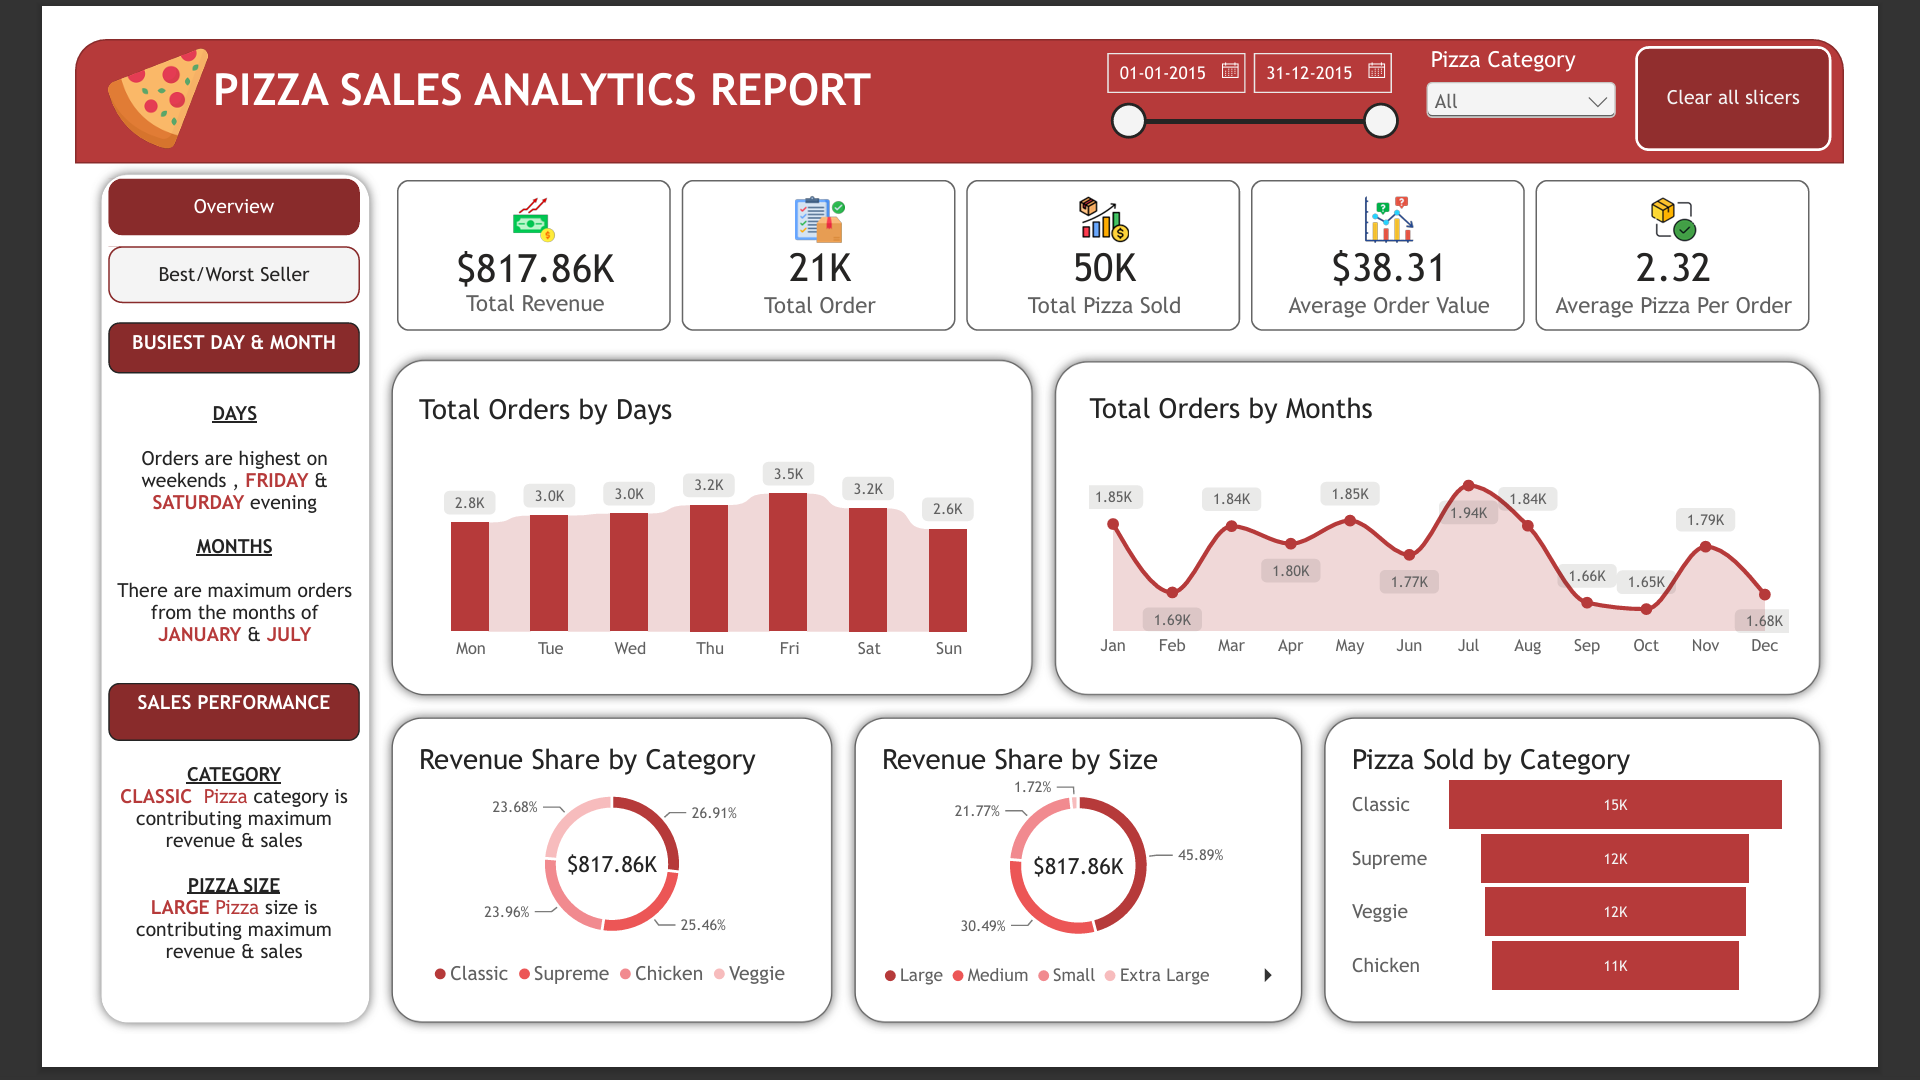

The dashboard page shown, as its layout file describes it:
{"tool":"powerbi","page":{"name":"Overview","canvas":[1280,720],"ordinal":0},"visuals":[{"type":"cardVisual","fields":{"Data":["KPI's.Total Revenue","KPI's.Total Order","KPI's.Total Pizza Sold","KPI's.Average Order Value","KPI's.Average Pizza Per Order"]},"box":[220.8,90.5,1050.8,133.9],"z":0},{"type":"shape","box":[0,0,1280,90],"z":1000},{"type":"shape","box":[10.9,90.5,209.9,629.8],"z":2000},{"type":"shape","box":[220.8,224.4,480.2,258.2],"z":3000},{"type":"shape","box":[701.2,225,570,257.5],"z":4000},{"type":"shape","box":[220.8,482.6,335.4,237.7],"z":5000},{"type":"shape","box":[556.2,482.5,340,237.5],"z":6000},{"type":"shape","box":[896.2,482.5,375,237.5],"z":7000},{"type":"columnChart","title":"Total Orders by Days","fields":{"Y":["KPI's.Total Order"],"Category":["Calendar Table.Day Name"]},"box":[232.8,242.5,453.6,225.6],"z":8000},{"type":"areaChart","title":"Total Orders by Months","fields":{"Y":["KPI's.Total Order"],"Category":["Calendar Table.Month Name"]},"box":[717.5,241.2,538.8,225],"z":9000},{"type":"donutChart","title":"Revenue Share by Category","fields":{"Y":["KPI's.Total Revenue"],"Category":["pizza_sales.pizza_category"]},"box":[232.8,494.6,311.3,212.3],"z":10000},{"type":"donutChart","title":"Revenue Share by Size","fields":{"Y":["KPI's.Total Revenue"],"Category":["pizza_sales.pizza_size"]},"box":[567.5,495,316.2,212.5],"z":11000},{"type":"funnel","title":"Pizza Sold by Category","fields":{"Category":["pizza_sales.pizza_category"],"Y":["KPI's.Total Pizza Sold"]},"box":[907.5,495,348.8,212.5],"z":12000},{"type":"image","box":[11.2,5,97.5,76.2],"z":13000},{"type":"slicer","fields":{"Values":["pizza_sales.order_date"]},"box":[738.8,5,222.5,80],"z":14000},{"type":"slicer","fields":{"Values":["pizza_sales.pizza_category"]},"box":[972.5,5,147.5,80],"z":15000},{"type":"actionButton","box":[1128.8,5,142.5,76.2],"z":16000},{"type":"textbox","box":[100.1,18.1,600.8,62.7],"z":17000},{"type":"textbox","box":[24.1,205.1,182.2,37.4],"z":18000},{"type":"textbox","box":[24.1,465.7,182.2,42.2],"z":19000},{"type":"textbox","box":[25.3,263,181,193],"z":20000},{"type":"textbox","box":[24.1,507.9,182.2,199.1],"z":21000},{"type":"pageNavigator","box":[24.1,101.3,182.2,91.7],"z":22000}]}

Visuals, with their boxes in screenshot pixels (x1, y1, x2, y2), scaled from the page's 1280x720 canvas onto the 1920x1080 screenshot:
cardVisual - KPI's.Total Revenue x KPI's.Total Order: (left=331, top=136, right=1907, bottom=337)
shape: (left=0, top=0, right=1919, bottom=135)
shape: (left=16, top=136, right=331, bottom=1079)
shape: (left=331, top=337, right=1052, bottom=724)
shape: (left=1052, top=338, right=1907, bottom=724)
shape: (left=331, top=724, right=834, bottom=1079)
shape: (left=834, top=724, right=1344, bottom=1079)
shape: (left=1344, top=724, right=1907, bottom=1079)
"Total Orders by Days" columnChart: (left=349, top=364, right=1030, bottom=702)
"Total Orders by Months" areaChart: (left=1076, top=362, right=1884, bottom=699)
"Revenue Share by Category" donutChart: (left=349, top=742, right=816, bottom=1060)
"Revenue Share by Size" donutChart: (left=851, top=742, right=1326, bottom=1061)
"Pizza Sold by Category" funnel: (left=1361, top=742, right=1884, bottom=1061)
image: (left=17, top=8, right=163, bottom=122)
slicer - pizza_sales.order_date: (left=1108, top=8, right=1442, bottom=128)
slicer - pizza_sales.pizza_category: (left=1459, top=8, right=1680, bottom=128)
actionButton: (left=1693, top=8, right=1907, bottom=122)
textbox: (left=150, top=27, right=1051, bottom=121)
textbox: (left=36, top=308, right=309, bottom=364)
textbox: (left=36, top=699, right=309, bottom=762)
textbox: (left=38, top=394, right=309, bottom=684)
textbox: (left=36, top=762, right=309, bottom=1060)
pageNavigator: (left=36, top=152, right=309, bottom=290)
